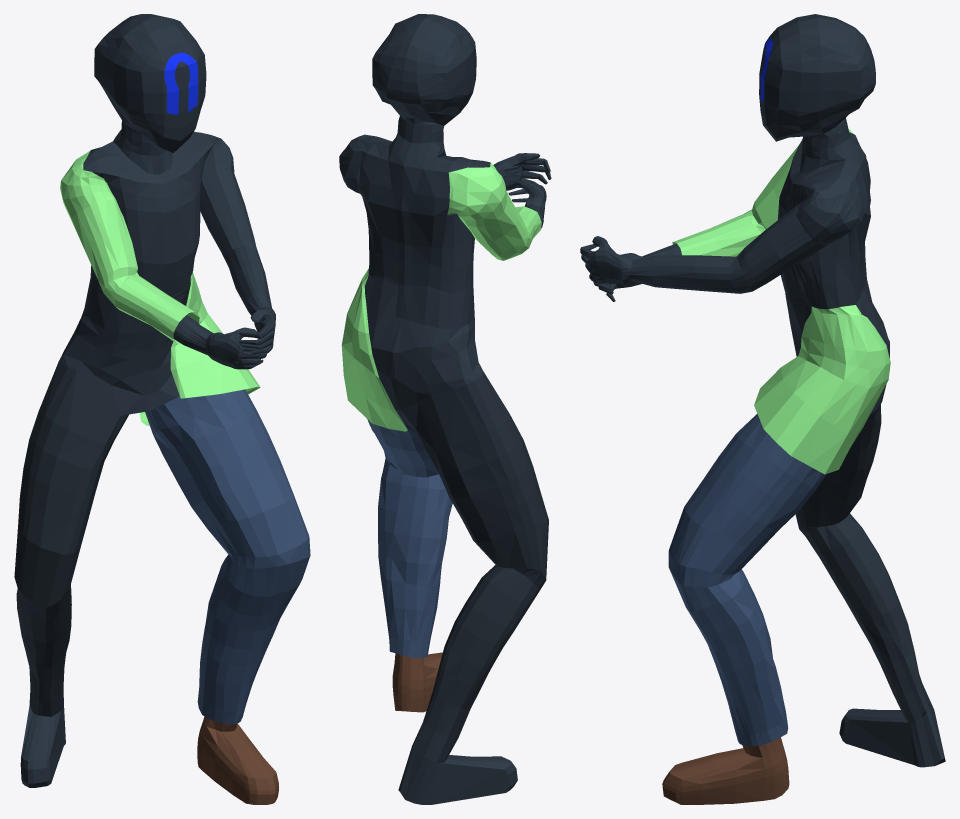
Rendered from Mar_WF_000026.obj.
3 renders of one model, left to right at view 1: azimuth 30°, elevation 25°; view 2: azimuth 150°, elevation 25°; view 3: azimuth 270°, elevation 25°, orthographic. The views are drawn at different scales.
Visible parts, largest first — view 1: Cube.000_Cube.001; view 2: Cube.000_Cube.001; view 3: Cube.000_Cube.001.
Boxes of the visible parts, <box> form: Cube.000_Cube.001: <box>14,14,310,804</box>; Cube.000_Cube.001: <box>339,14,551,804</box>; Cube.000_Cube.001: <box>580,14,945,804</box>.
Size of the model in its own units: 1.15 by 3.7 by 1.59.
